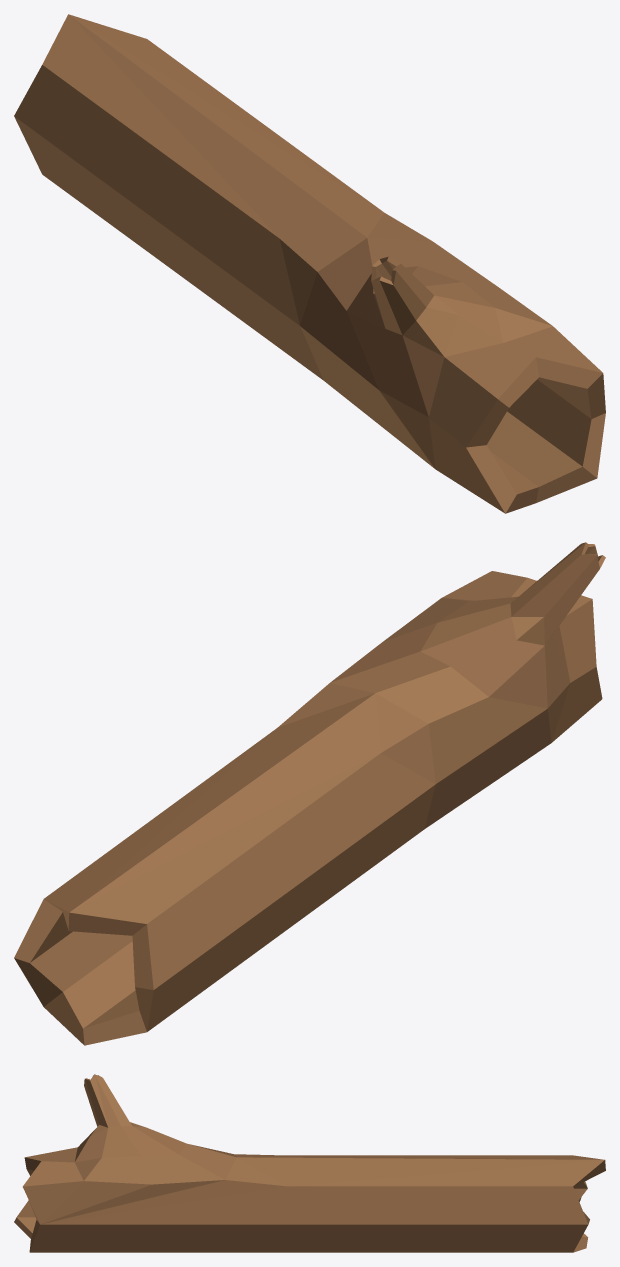
Rendered from Branch_5.fbx.
3 views of the same model, one above another, from view 1: azimuth 30°, elevation 25°; view 2: azimuth 150°, elevation 25°; view 3: azimuth 270°, elevation 25° (orthographic). The views are drawn at different scales.
Visible parts, largest first — view 1: Branch4_mesh; view 2: Branch4_mesh; view 3: Branch4_mesh.
Boxes of the visible parts, x1,y1,x2,y2 form: Branch4_mesh: [14, 14, 605, 513]; Branch4_mesh: [14, 542, 605, 1045]; Branch4_mesh: [14, 1074, 605, 1252].
Bounding box in the file's own units: 67.17 × 81.35 × 303.
